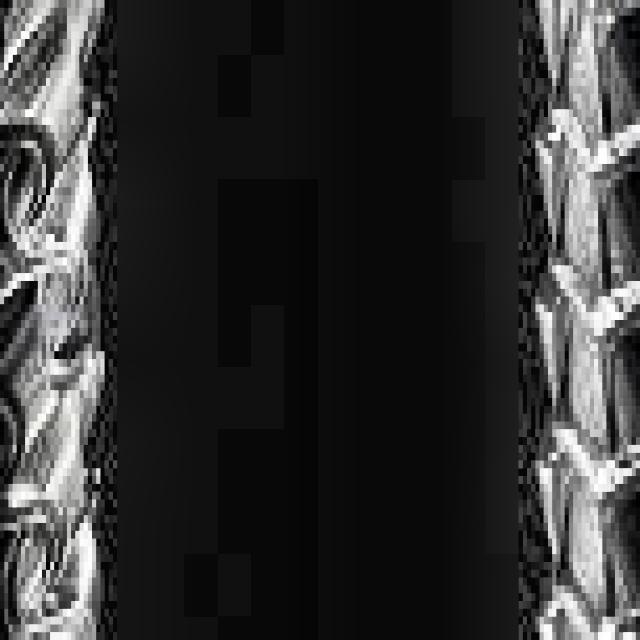metal: (0, 0, 121, 640), (527, 0, 640, 640)
